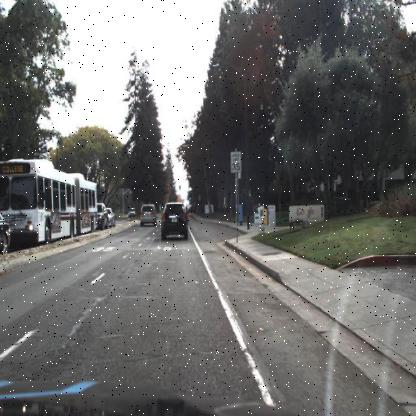car: (160, 201, 189, 241), (138, 201, 158, 228), (96, 198, 110, 232)
truck: (4, 156, 98, 244)
